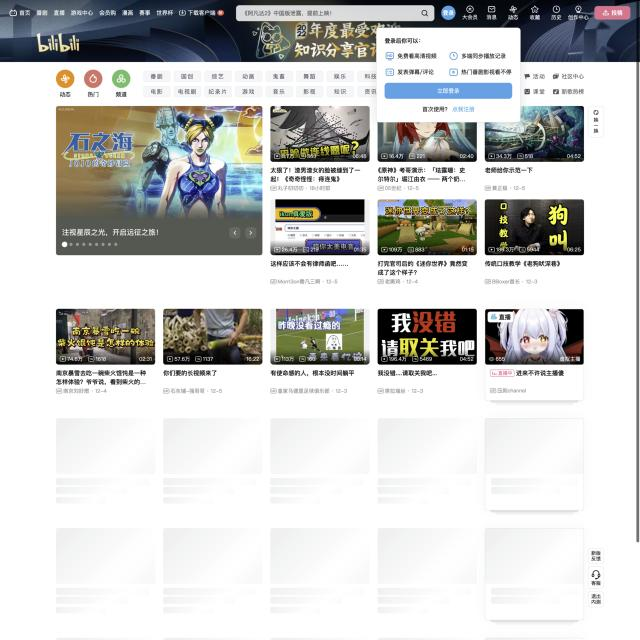input: (237, 5, 435, 22)
logo: (35, 28, 83, 55)
navigation: (5, 6, 226, 19), (462, 5, 589, 23)
video: (56, 308, 156, 366)
